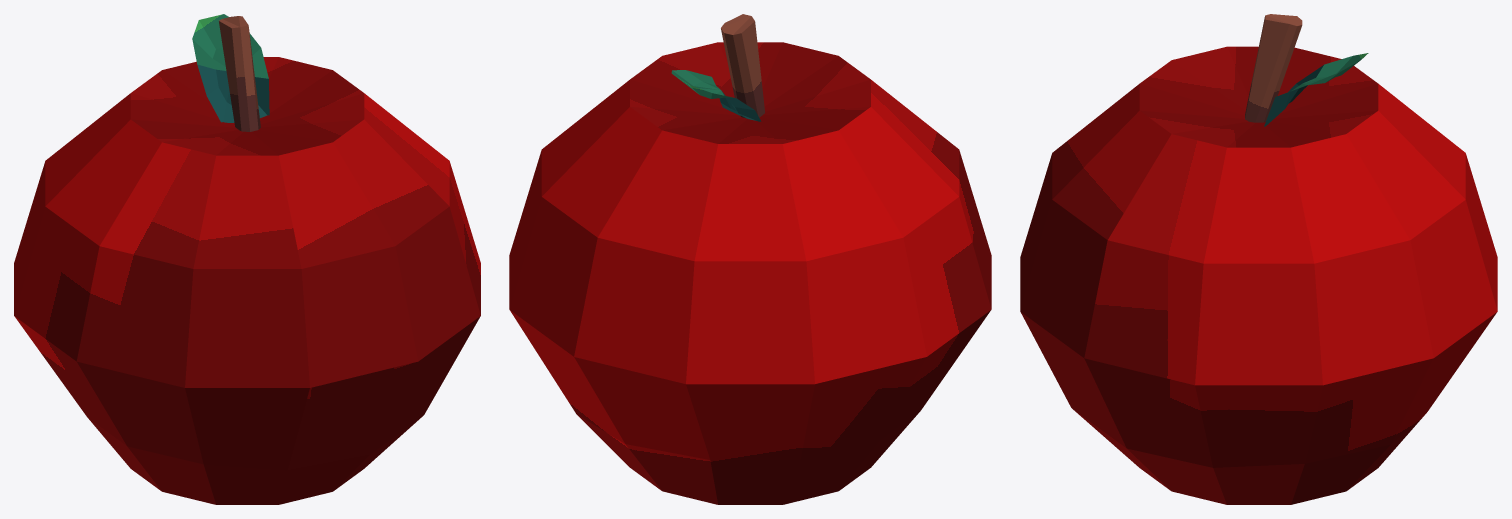
Rendered from Apple Topper.gltf.
3 renders of one model, left to right at view 1: azimuth 30°, elevation 25°; view 2: azimuth 150°, elevation 25°; view 3: azimuth 270°, elevation 25°, orthographic. The views are drawn at different scales.
Parts seen in each view (by area): view 1: body, leaf, stem; view 2: body, stem, leaf; view 3: body, stem, leaf.
Boxes of the visible parts, left/top/right/bottom form: body: left=14, top=57, right=480, bottom=504; leaf: left=192, top=14, right=269, bottom=122; stem: left=219, top=16, right=260, bottom=131; body: left=509, top=42, right=991, bottom=504; stem: left=721, top=14, right=764, bottom=117; leaf: left=671, top=70, right=761, bottom=121; body: left=1020, top=46, right=1497, bottom=504; stem: left=1245, top=14, right=1302, bottom=122; leaf: left=1264, top=53, right=1368, bottom=126.
Size of the model in its own units: 0.3125 by 0.3178 by 0.3125.
Materials: 1 (1 with a texture image).
